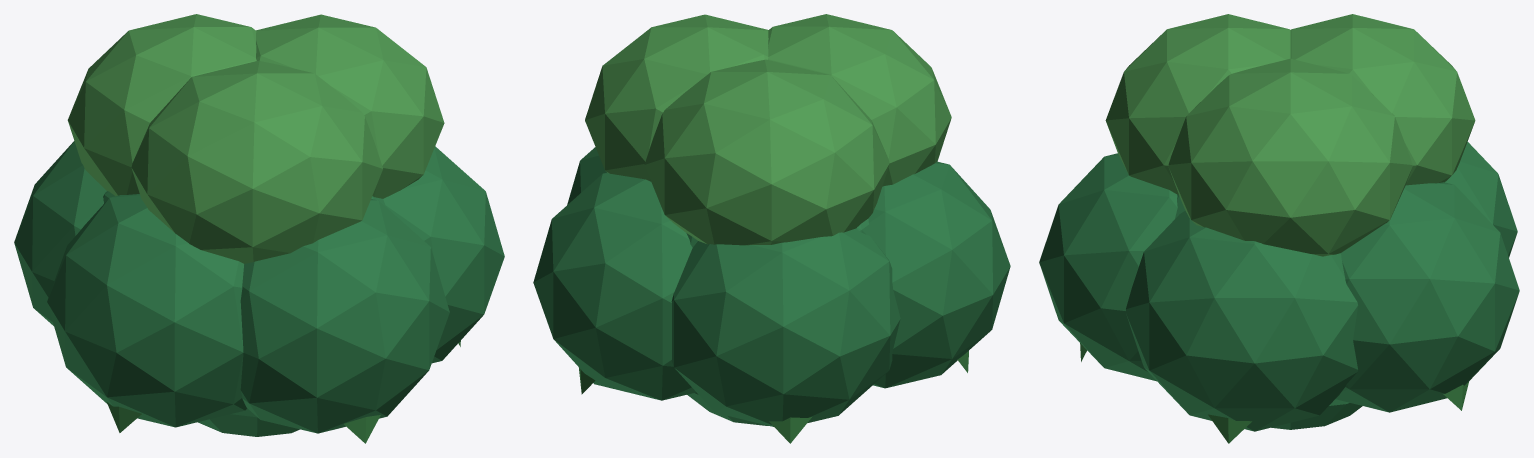
File: IvyLeaves.obj
3 renders of one model, left to right at view 1: azimuth 30°, elevation 25°; view 2: azimuth 150°, elevation 25°; view 3: azimuth 270°, elevation 25°, orthographic. The views are drawn at different scales.
Parts seen in each view (by area): view 1: IvyLeaves_IvyGreen, IvyLeaves_IvyNewGrowth, IvyLeaves_IvyLeafTips; view 2: IvyLeaves_IvyGreen, IvyLeaves_IvyNewGrowth, IvyLeaves_IvyLeafTips; view 3: IvyLeaves_IvyGreen, IvyLeaves_IvyNewGrowth, IvyLeaves_IvyLeafTips.
Part boxes in pixels (x1,y1,x2,y2): IvyLeaves_IvyGreen: [14, 141, 504, 436]; IvyLeaves_IvyNewGrowth: [67, 14, 444, 263]; IvyLeaves_IvyLeafTips: [107, 340, 460, 443]; IvyLeaves_IvyGreen: [533, 147, 1010, 426]; IvyLeaves_IvyNewGrowth: [585, 14, 951, 245]; IvyLeaves_IvyLeafTips: [579, 351, 968, 443]; IvyLeaves_IvyGreen: [1039, 142, 1519, 431]; IvyLeaves_IvyNewGrowth: [1105, 14, 1475, 256]; IvyLeaves_IvyLeafTips: [1080, 343, 1468, 443].
Bounding box in the file's own units: 3.4 × 2.8 × 3.4.
